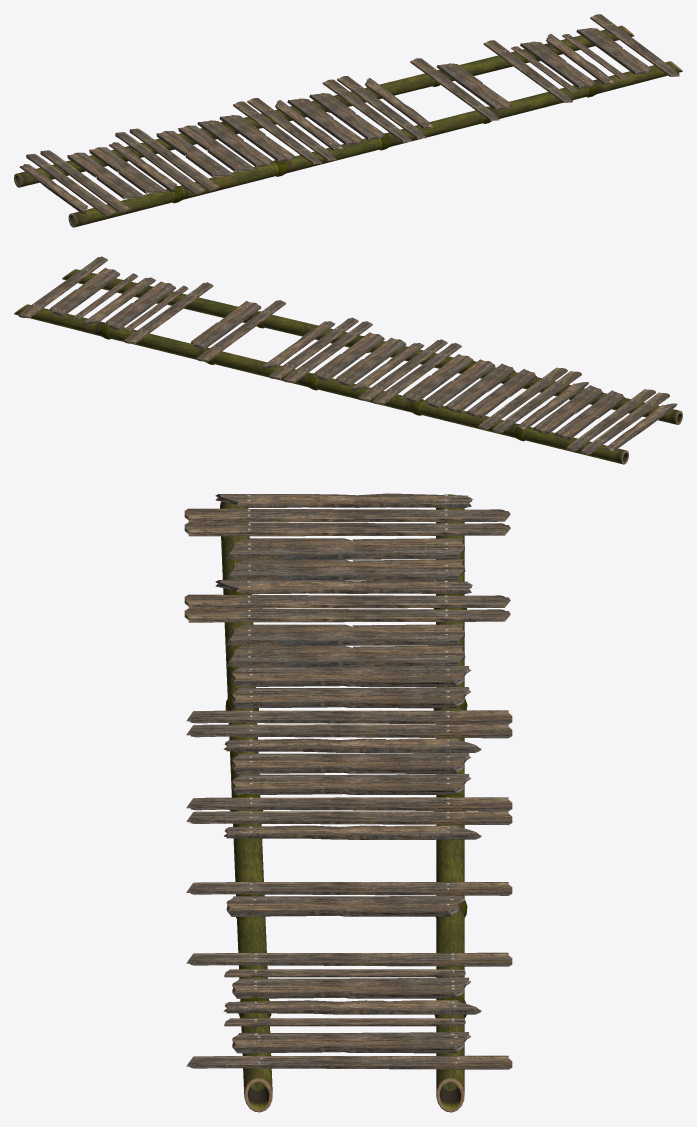
The model's file is Bridge.fbx.
3 views of the same model, one above another, from view 1: azimuth 30°, elevation 25°; view 2: azimuth 150°, elevation 25°; view 3: azimuth 270°, elevation 25° (orthographic). The views are drawn at different scales.
Parts seen in each view (by area): view 1: 02, 02.001, plank_03.001, plank_03.002, plank_03.003, plank_03.004, plank_03.005, plank_03, plank_03.006, plank_03.007, plank_03.010, plank_03.008 (+19 smaller); view 2: 02.001, 02, plank_03, plank_03.005, plank_03.006, plank_03.001, plank_03.003, plank_03.004, plank_03.002, plank_03.010, plank_03.007, plank_03.008 (+19 smaller); view 3: 02, 02.001, plank_03.009, plank_03.008, plank_03.007, plank_03.010, plank_03.005, plank_03.002, plank_03.004, plank_03.003, plank_03.001, plank_03.006 (+19 smaller).
Boxes of the visible parts, x1,y1,x2,y2 form: 02: (68,61,682,227); 02.001: (14,25,634,187); plank_03.001: (520,41,595,88); plank_03.002: (437,63,512,110); plank_03.003: (309,93,385,139); plank_03.004: (287,98,363,145); plank_03.005: (197,120,273,167); plank_03: (576,28,652,74); plank_03.006: (219,115,295,161); plank_03.007: (178,125,254,172); plank_03.010: (89,147,165,193); plank_03.008: (156,131,232,177); 02.001: (14,304,628,464); 02: (62,269,682,424); plank_03: (49,267,120,317); plank_03.005: (424,359,495,408); plank_03.006: (402,354,473,403); plank_03.001: (105,281,175,330); plank_03.003: (313,332,384,381); plank_03.004: (335,337,406,387); plank_03.002: (190,301,261,350); plank_03.010: (533,385,603,433); plank_03.007: (445,363,515,412); plank_03.008: (466,369,536,417); 02: (220,501,272,1112); 02.001: (433,494,467,1112); plank_03.009: (226,538,464,559); plank_03.008: (226,624,464,645); plank_03.007: (226,645,465,666); plank_03.010: (226,559,465,580); plank_03.005: (232,666,471,686); plank_03.002: (226,895,465,916); plank_03.004: (232,752,470,773); plank_03.003: (232,774,470,795); plank_03.001: (232,977,470,998); plank_03.006: (232,687,470,708).
Size of the model in its own units: 1075 by 30.15 by 250.
144 materials, 144 textured.
